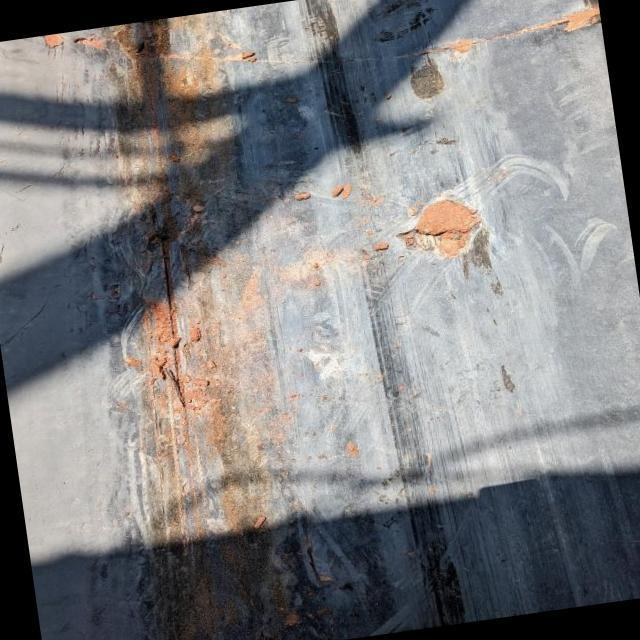Wear: (67, 6, 356, 640)
